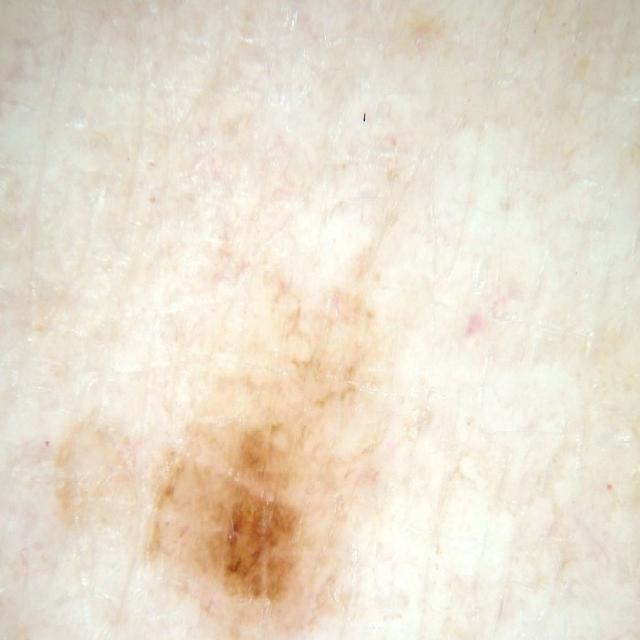Melanoma: (56, 330, 445, 640)
